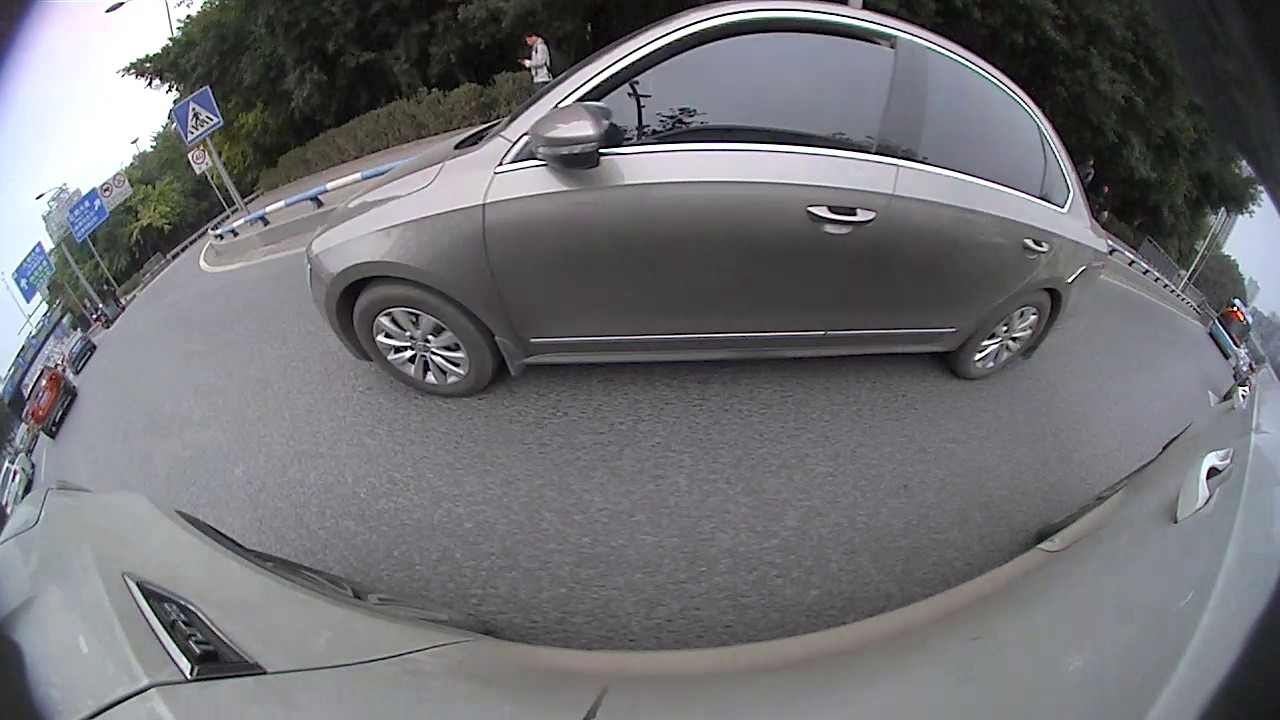bus: (1209, 295, 1256, 360)
car: (306, 1, 1109, 398), (24, 363, 79, 438), (0, 450, 38, 513), (1221, 363, 1279, 403), (60, 333, 98, 372)
front: (349, 278, 506, 399)
person: (528, 28, 552, 98), (1098, 181, 1112, 229), (1079, 151, 1093, 193)
rear: (947, 287, 1055, 381)
